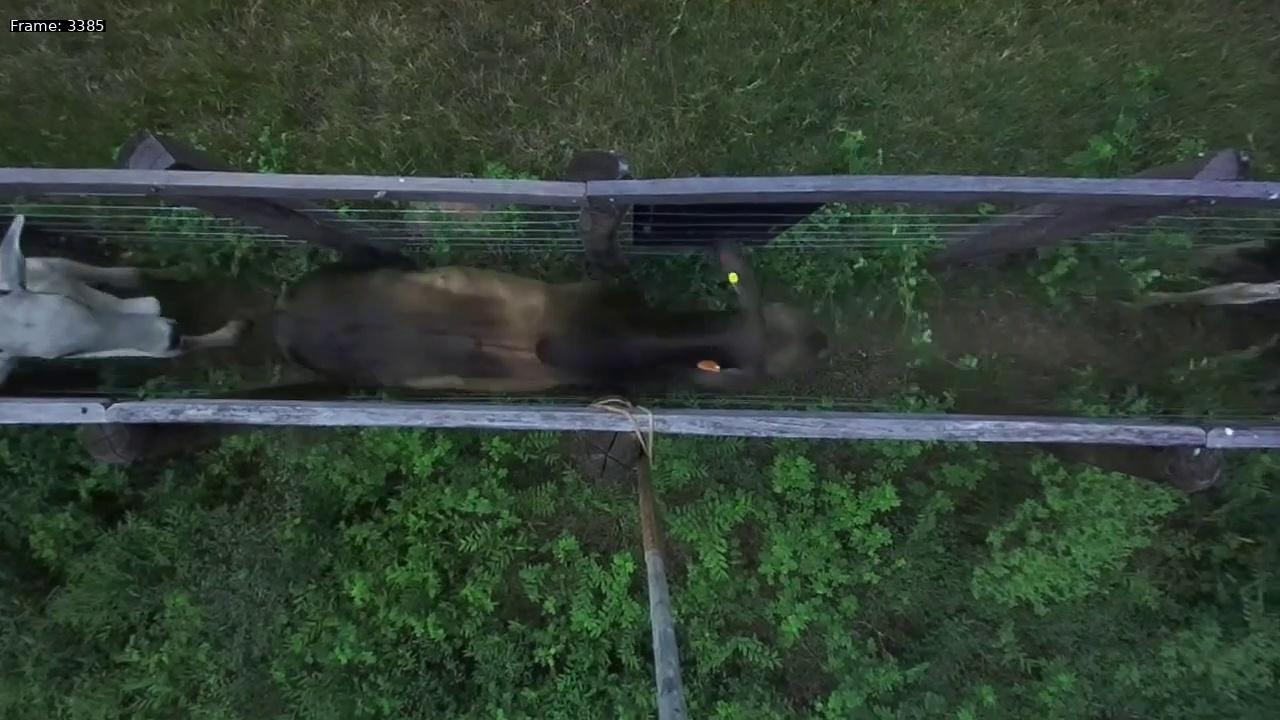cattle: (268, 233, 840, 404)
